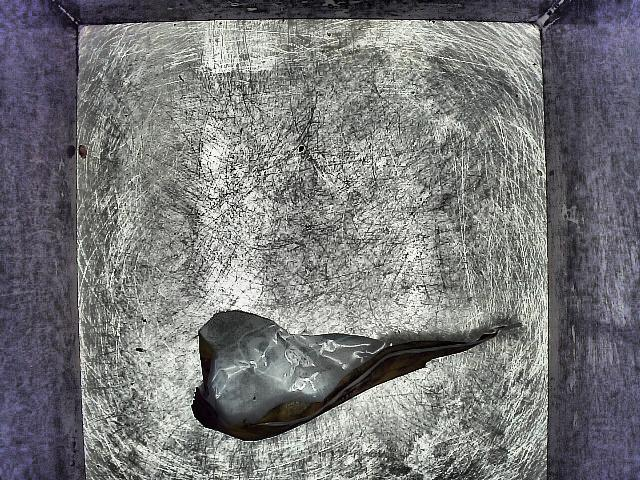Plastic: (182, 281, 527, 443)
